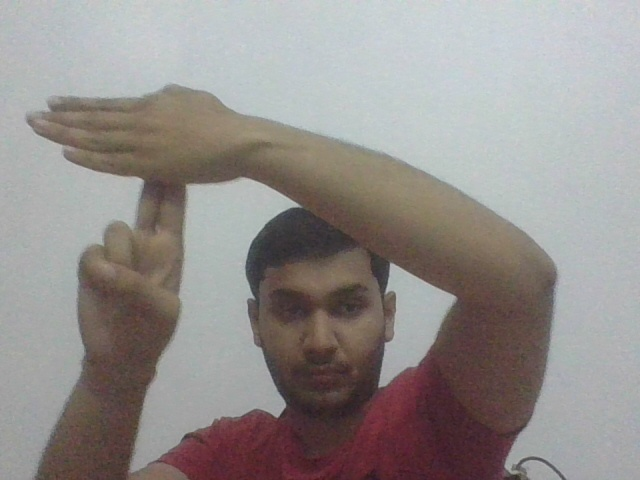N: (24, 78, 223, 237)
